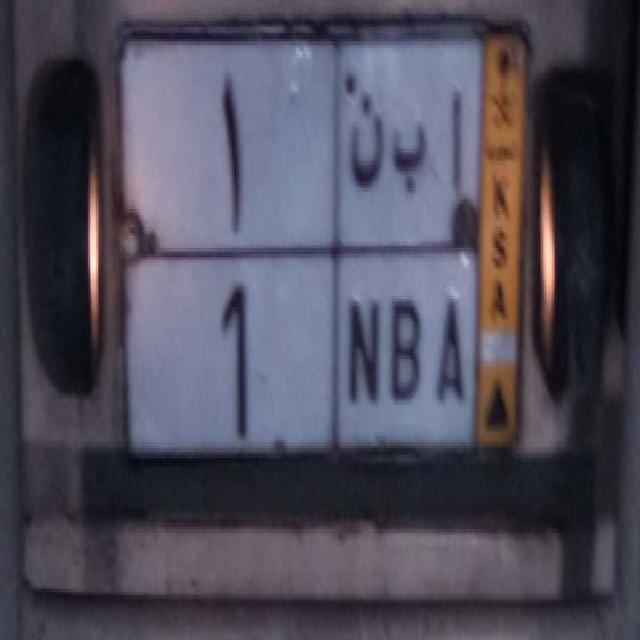license_plate: (122, 240, 478, 474)
